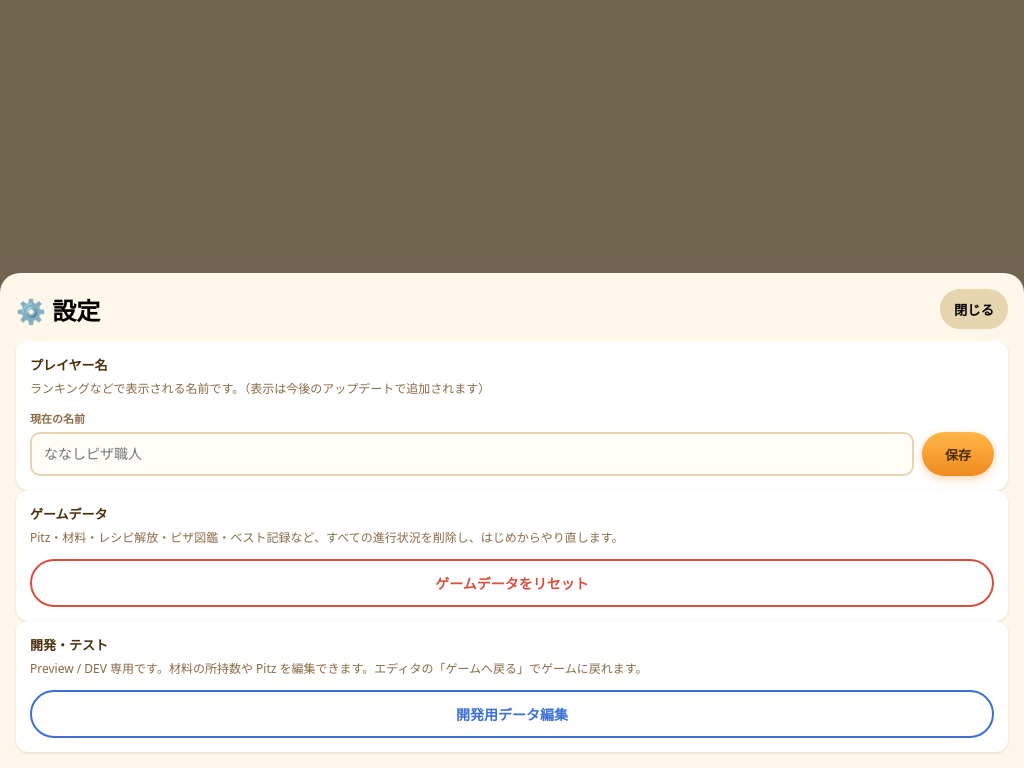
Test: SettingsOverlay -- プレイヤー名 › editing the input after a validation error clears the previous message
Click the button "保存": [958, 454] box [922,432,994,476]
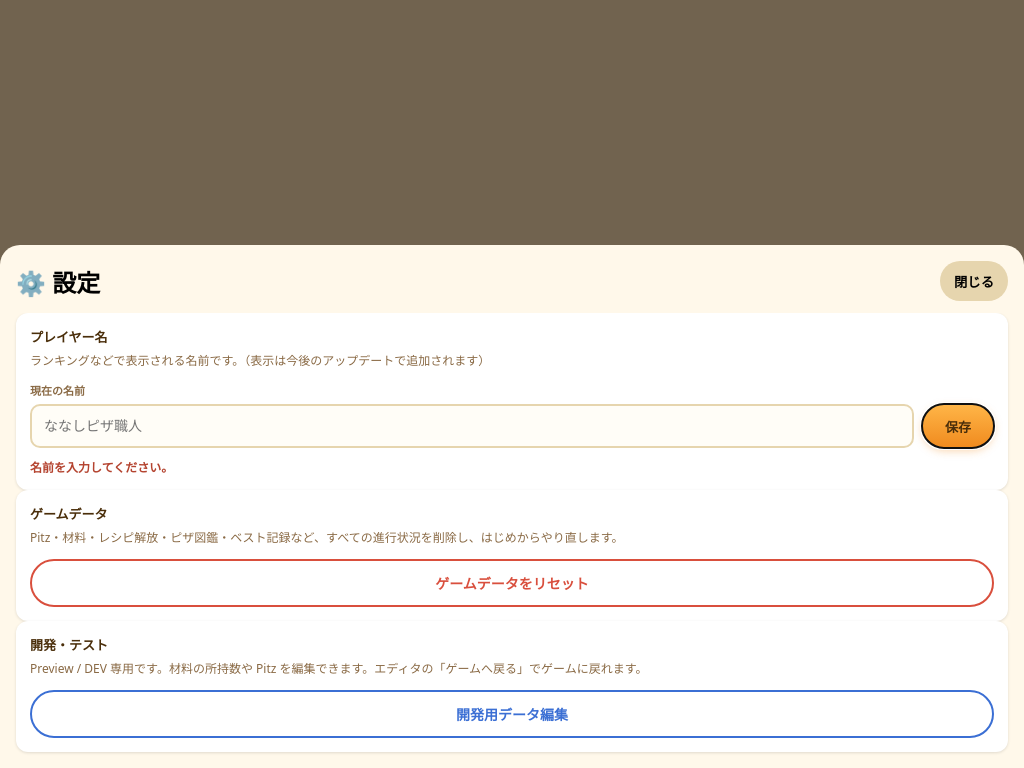
Expected: the text "名前を入力してください。" is shown, [30,459,173,476]
In the field labelled "現在の名前": [472, 426] box [30,404,914,448], type "A"
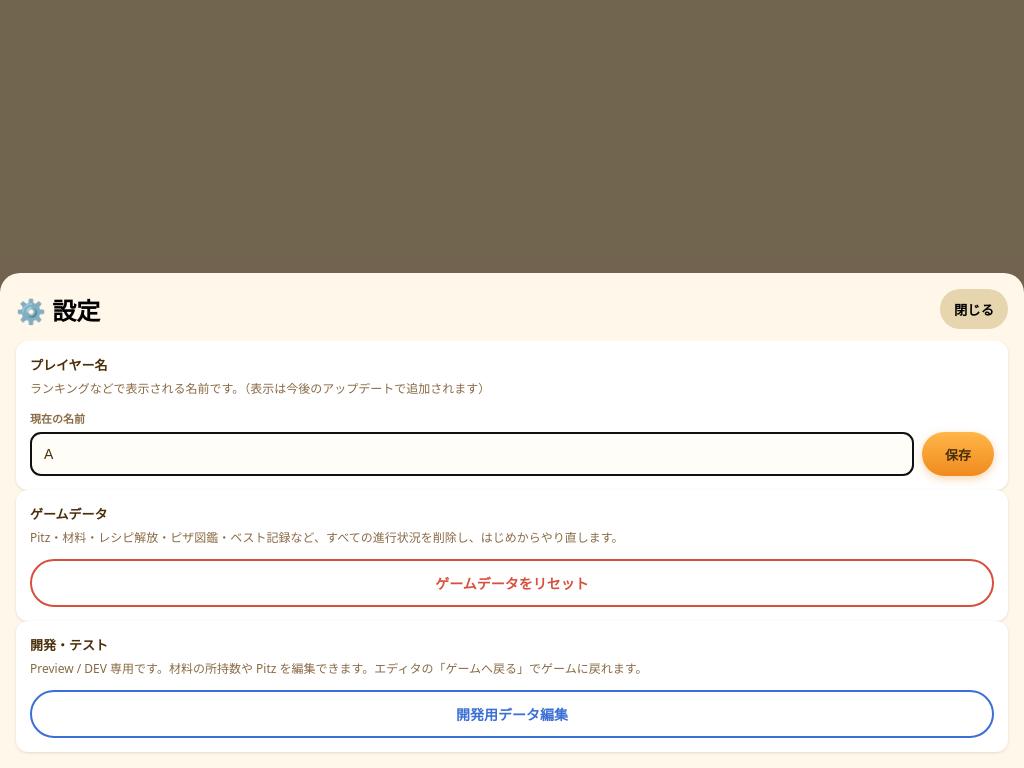
Expected: the text "名前を入力してください。" is gone
